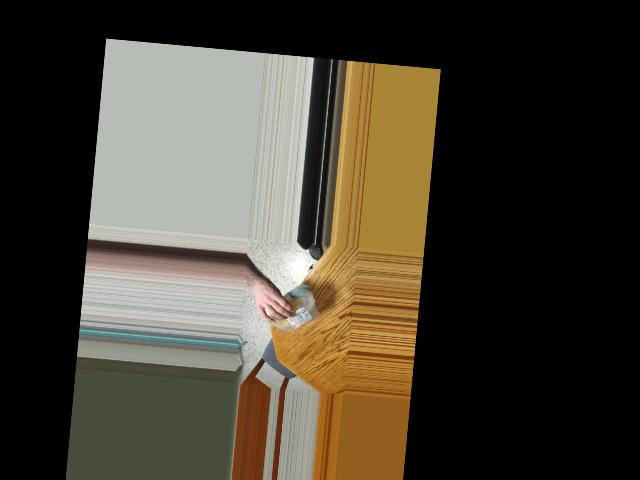cheese: (259, 287, 322, 338)
